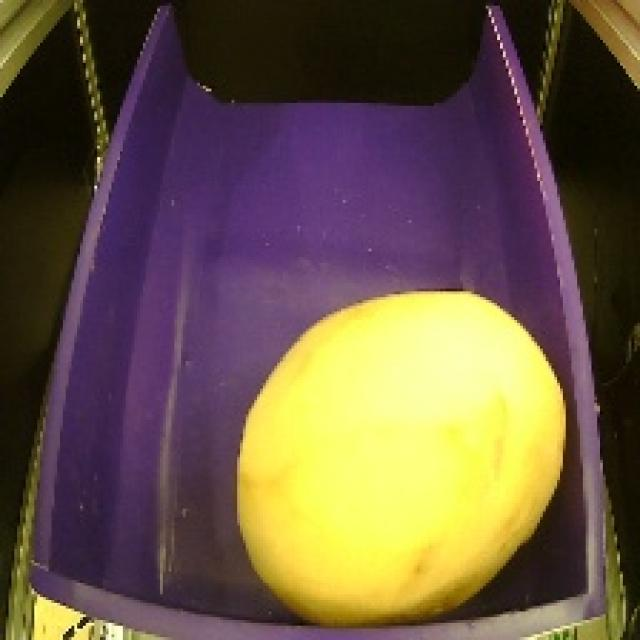full_potato: (223, 278, 583, 632)
